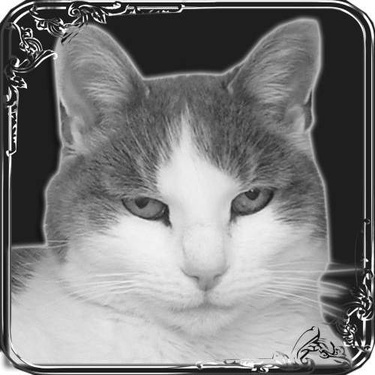cat: (1, 16, 354, 369)
